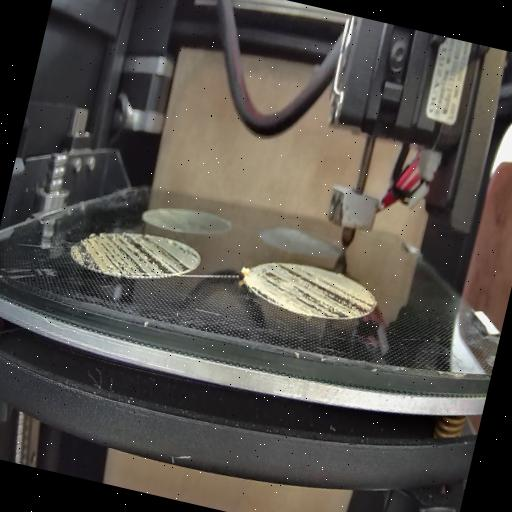under_extrusion: (71, 218, 201, 294), (248, 258, 379, 328)
